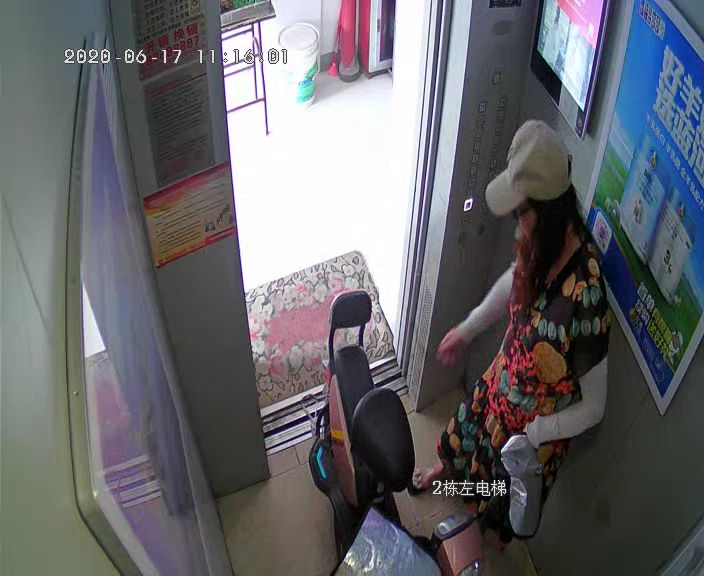Electric-bicycle: (307, 289, 531, 576)
